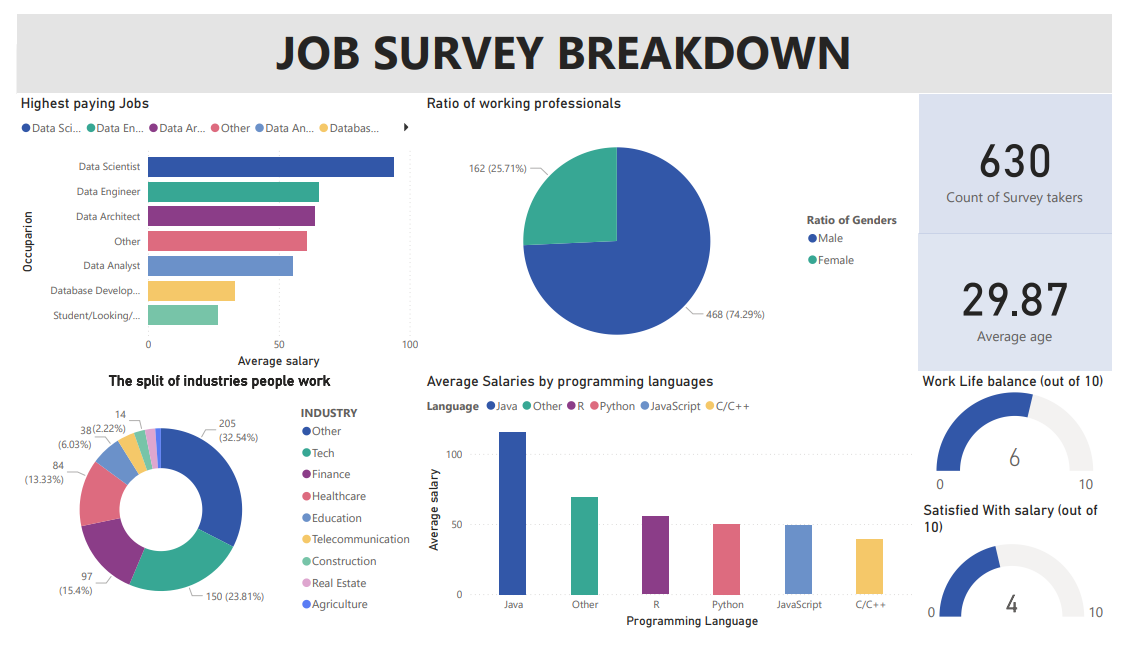

The page's visual inventory and layout, read from the dashboard file:
{"tool":"powerbi","page":{"name":"Page 1","canvas":[1280,720],"ordinal":0},"visuals":[{"type":"card","fields":{"Values":["Count(Data Professional Survey.Unique ID)"]},"box":[1054.1,92.8,225.9,162.8],"z":0},{"type":"textbox","box":[0,0,1280.4,91.6],"z":1000},{"type":"pieChart","title":"Ratio of working  professionals","fields":{"Y":["CountNonNull(Data Professional Survey.Q9 - Male/Female?)"],"Category":["Data Professional Survey.Q9 - Male/Female?"]},"box":[474.5,92.8,579.6,323.9],"z":1001},{"type":"barChart","title":"Highest paying Jobs","fields":{"Category":["Data Professional Survey.Q1 - Which Title Best Fits your Current Role?.1"],"Series":["Data Professional Survey.Q1 - Which Title Best Fits your Current Role?.1"],"Y":["Avg(Data Professional Survey.Average Salary)"]},"box":[0,92.8,474.5,323.9],"z":1002},{"type":"card","title":"Average age","fields":{"Values":["Avg(Data Professional Survey.Q10 - Current Age)"]},"box":[1054.1,255.6,225.9,161.1],"z":1003},{"type":"donutChart","title":"The split of industries people work","fields":{"Category":["Data Professional Survey.Q4 - What Industry do you work in?.1"],"Y":["CountNonNull(Data Professional Survey.Q4 - What Industry do you work in?.1)"]},"box":[0,416.7,474.5,302.9],"z":1004},{"type":"ribbonChart","title":"Average Salaries by programming languages","fields":{"Category":["Data Professional Survey.Q5 - Favorite Programming Language.1"],"Y":["Avg(Data Professional Survey.Average Salary)"],"Series":["Data Professional Survey.Q5 - Favorite Programming Language.1"]},"box":[474.5,416.7,579.6,302.9],"z":1005},{"type":"gauge","title":"Work Life balance (out of 10)","fields":{"Y":["Avg(Data Professional Survey.Q6 - How Happy are you in your Current Position with the following? (Work/Life Balance))"]},"box":[1054.1,416.7,225.9,152.3],"z":1006},{"type":"gauge","title":"Satisfied With salary (out of 10)","fields":{"Y":["Avg(Data Professional Survey.Q6 - How Happy are you in your Current Position with the following? (Salary))"]},"box":[1055,569,225,151],"z":1007}]}

Visuals, with their boxes in screenshot pixels (x1, y1, x2, y2), scaled from the page's 1280x720 canvas onto the 1130x647 screenshot:
card - Count(Data Professional Survey.Unique ID): 931/83/1129/230
textbox: 0/0/1129/82
"Ratio of working  professionals" pieChart: 419/83/931/374
"Highest paying Jobs" barChart: 0/83/419/374
"Average age" card: 931/230/1129/374
"The split of industries people work" donutChart: 0/374/419/646
"Average Salaries by programming languages" ribbonChart: 419/374/931/646
"Work Life balance (out of 10)" gauge: 931/374/1129/511
"Satisfied With salary (out of 10)" gauge: 931/511/1129/646
